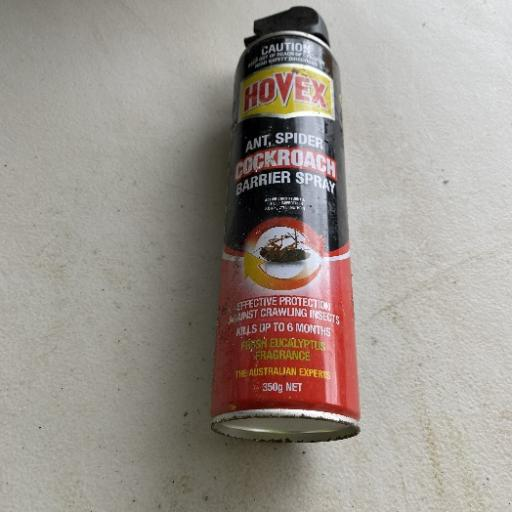Metal: (207, 6, 363, 443)
